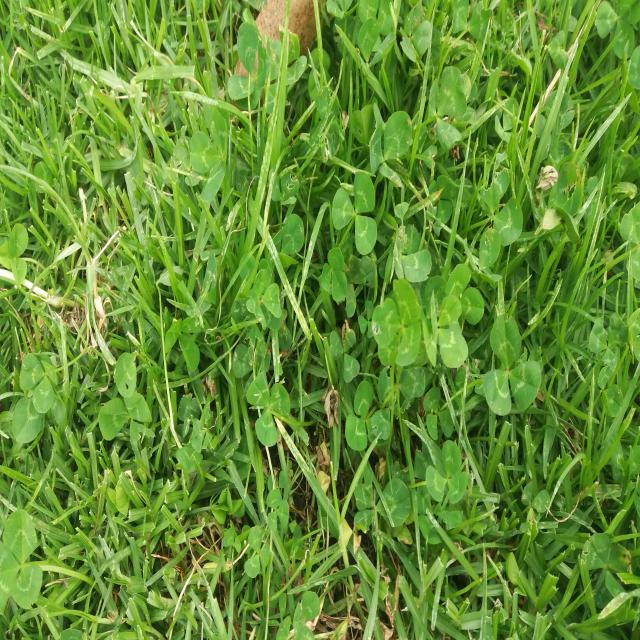Four Leaf Clover: (423, 289, 468, 369)
